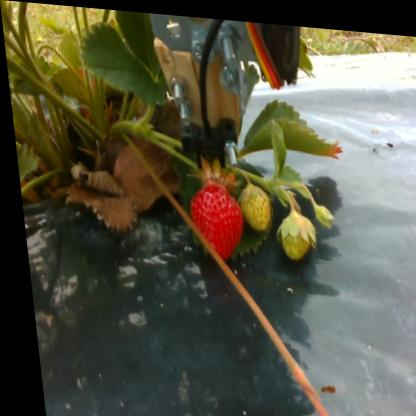ripe: (184, 180, 243, 259)
unripe: (271, 206, 314, 258), (237, 177, 269, 228)
